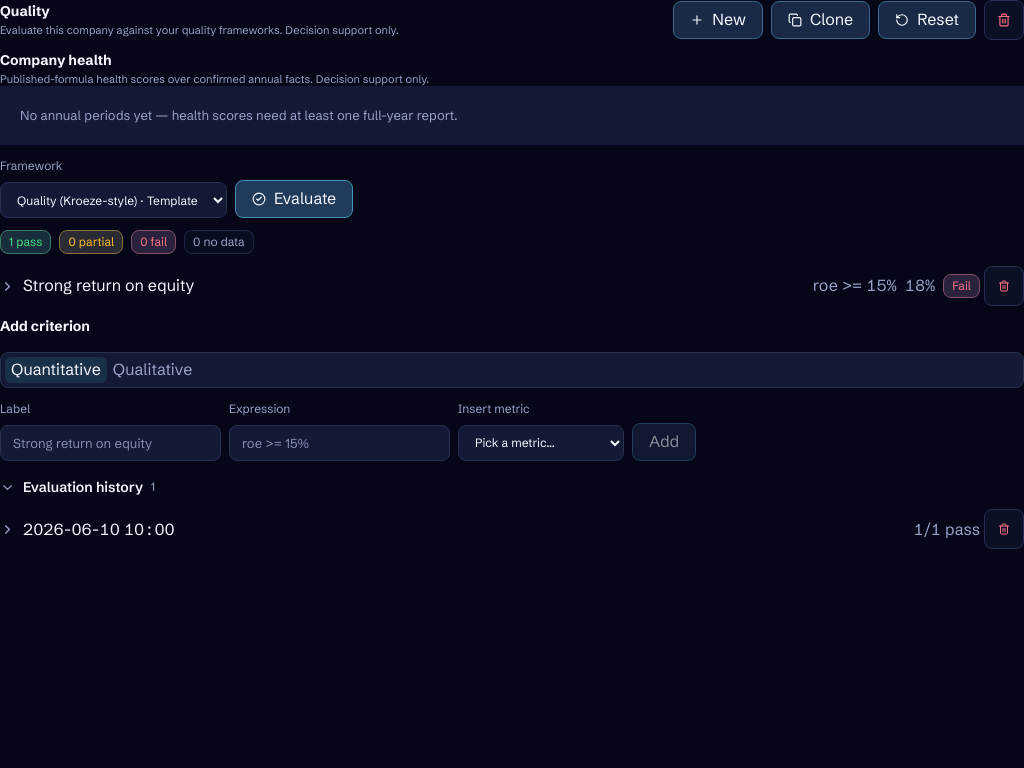
Test: QualityPanel › expands a history run to reveal its per-criterion snapshot
Expected: the text "Strong return on equity" is shown, [23,275,194,295]
Expected: the text "Snapshot criterion" is not shown
Click the button "2026-06-10 10:00 1/1 pass": (99, 529) [0,518,980,541]
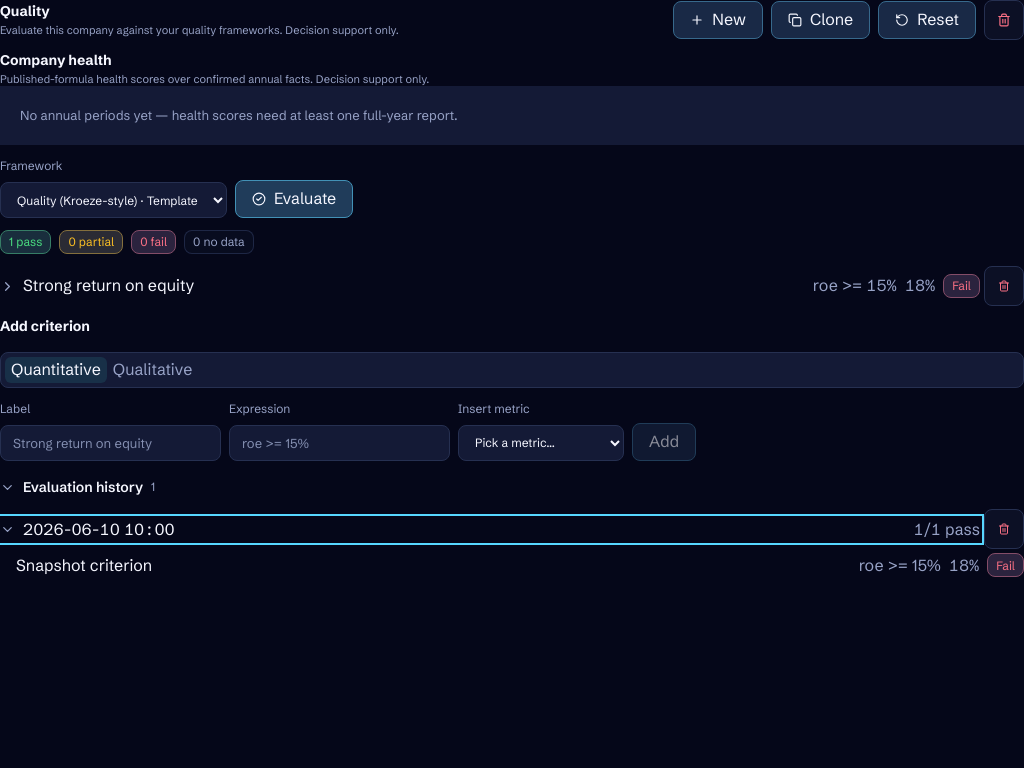
Result: the text "Snapshot criterion" is shown at [16,554,152,577]
